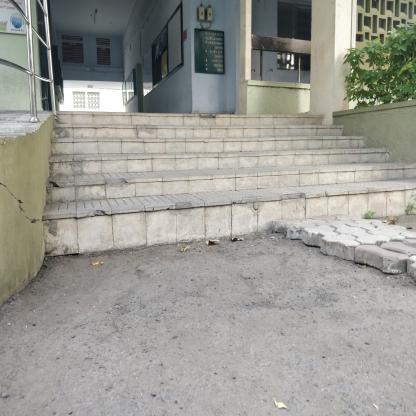stairs: (62, 116, 326, 252)
